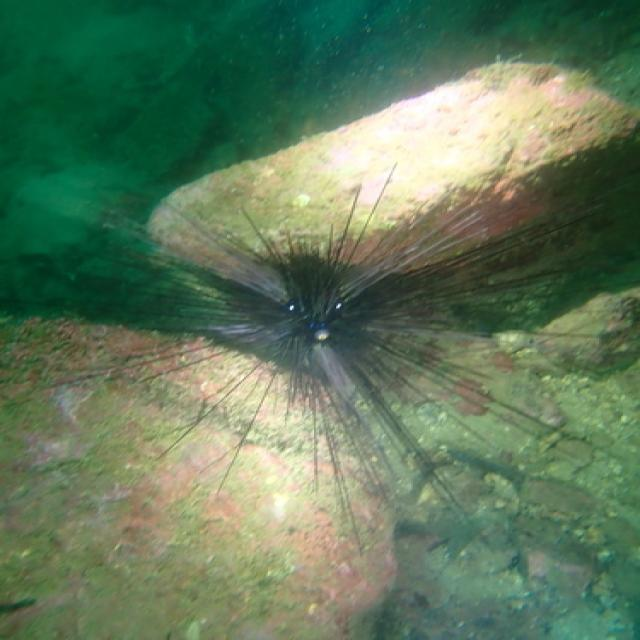Urchin: (44, 165, 599, 554)
